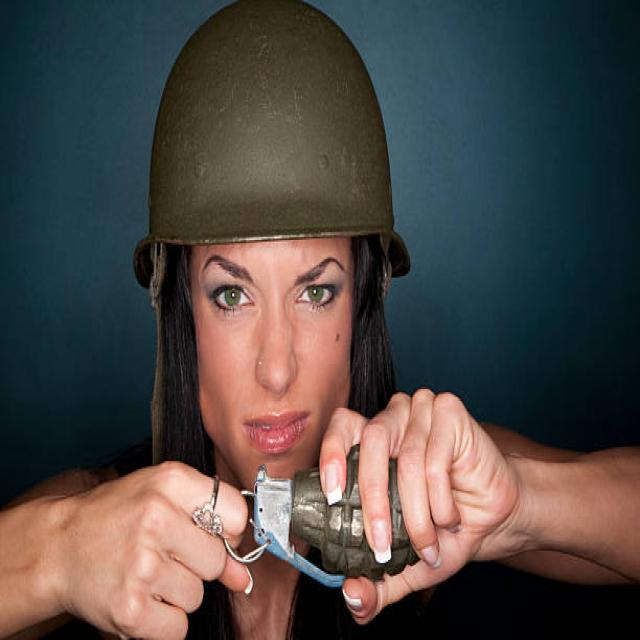grenade: (218, 450, 437, 598)
